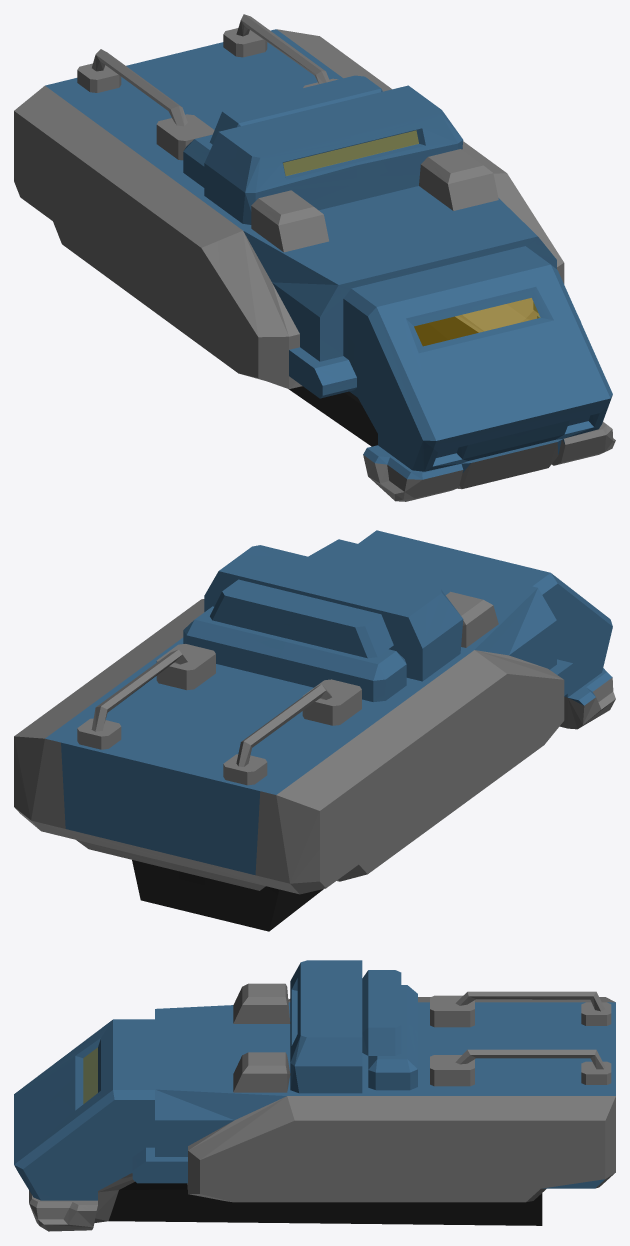
Rendered from harvester_hull.glb.
3 renders of one model, top to bottom at view 1: azimuth 30°, elevation 25°; view 2: azimuth 150°, elevation 25°; view 3: azimuth 270°, elevation 25°, orthographic. The views are drawn at different scales.
Visible parts, largest first — view 1: Vehiclebody; view 2: Vehiclebody; view 3: Vehiclebody.
Part boxes in pixels (x1,y1,x2,y2): Vehiclebody: [14, 14, 615, 501]; Vehiclebody: [14, 530, 615, 931]; Vehiclebody: [14, 960, 615, 1231].
Size of the model in its own units: 4.4 by 3.33 by 9.05.
